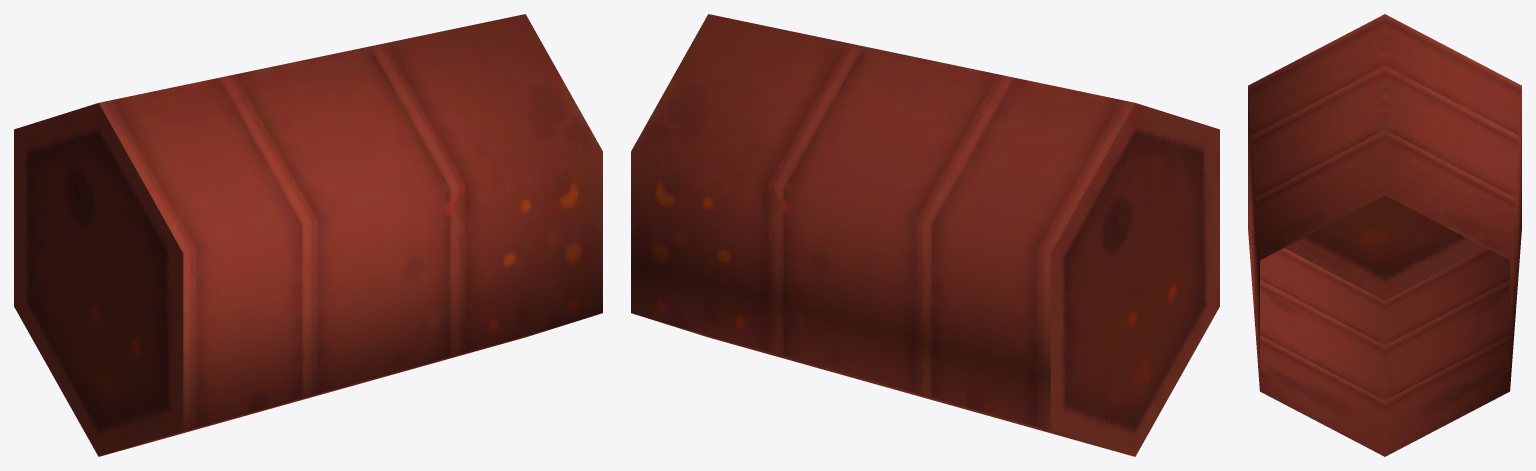
File: sundries_05_76601358__ZombiesII_depot_diffuse_07_f609ceb1_c1f257.obj
3 renders of one model, left to right at view 1: azimuth 30°, elevation 25°; view 2: azimuth 150°, elevation 25°; view 3: azimuth 270°, elevation 25°, orthographic. The views are drawn at different scales.
Bounding box in the file's own units: 1.95 × 1.55 × 1.34.
Materials: 1 (1 with a texture image).
